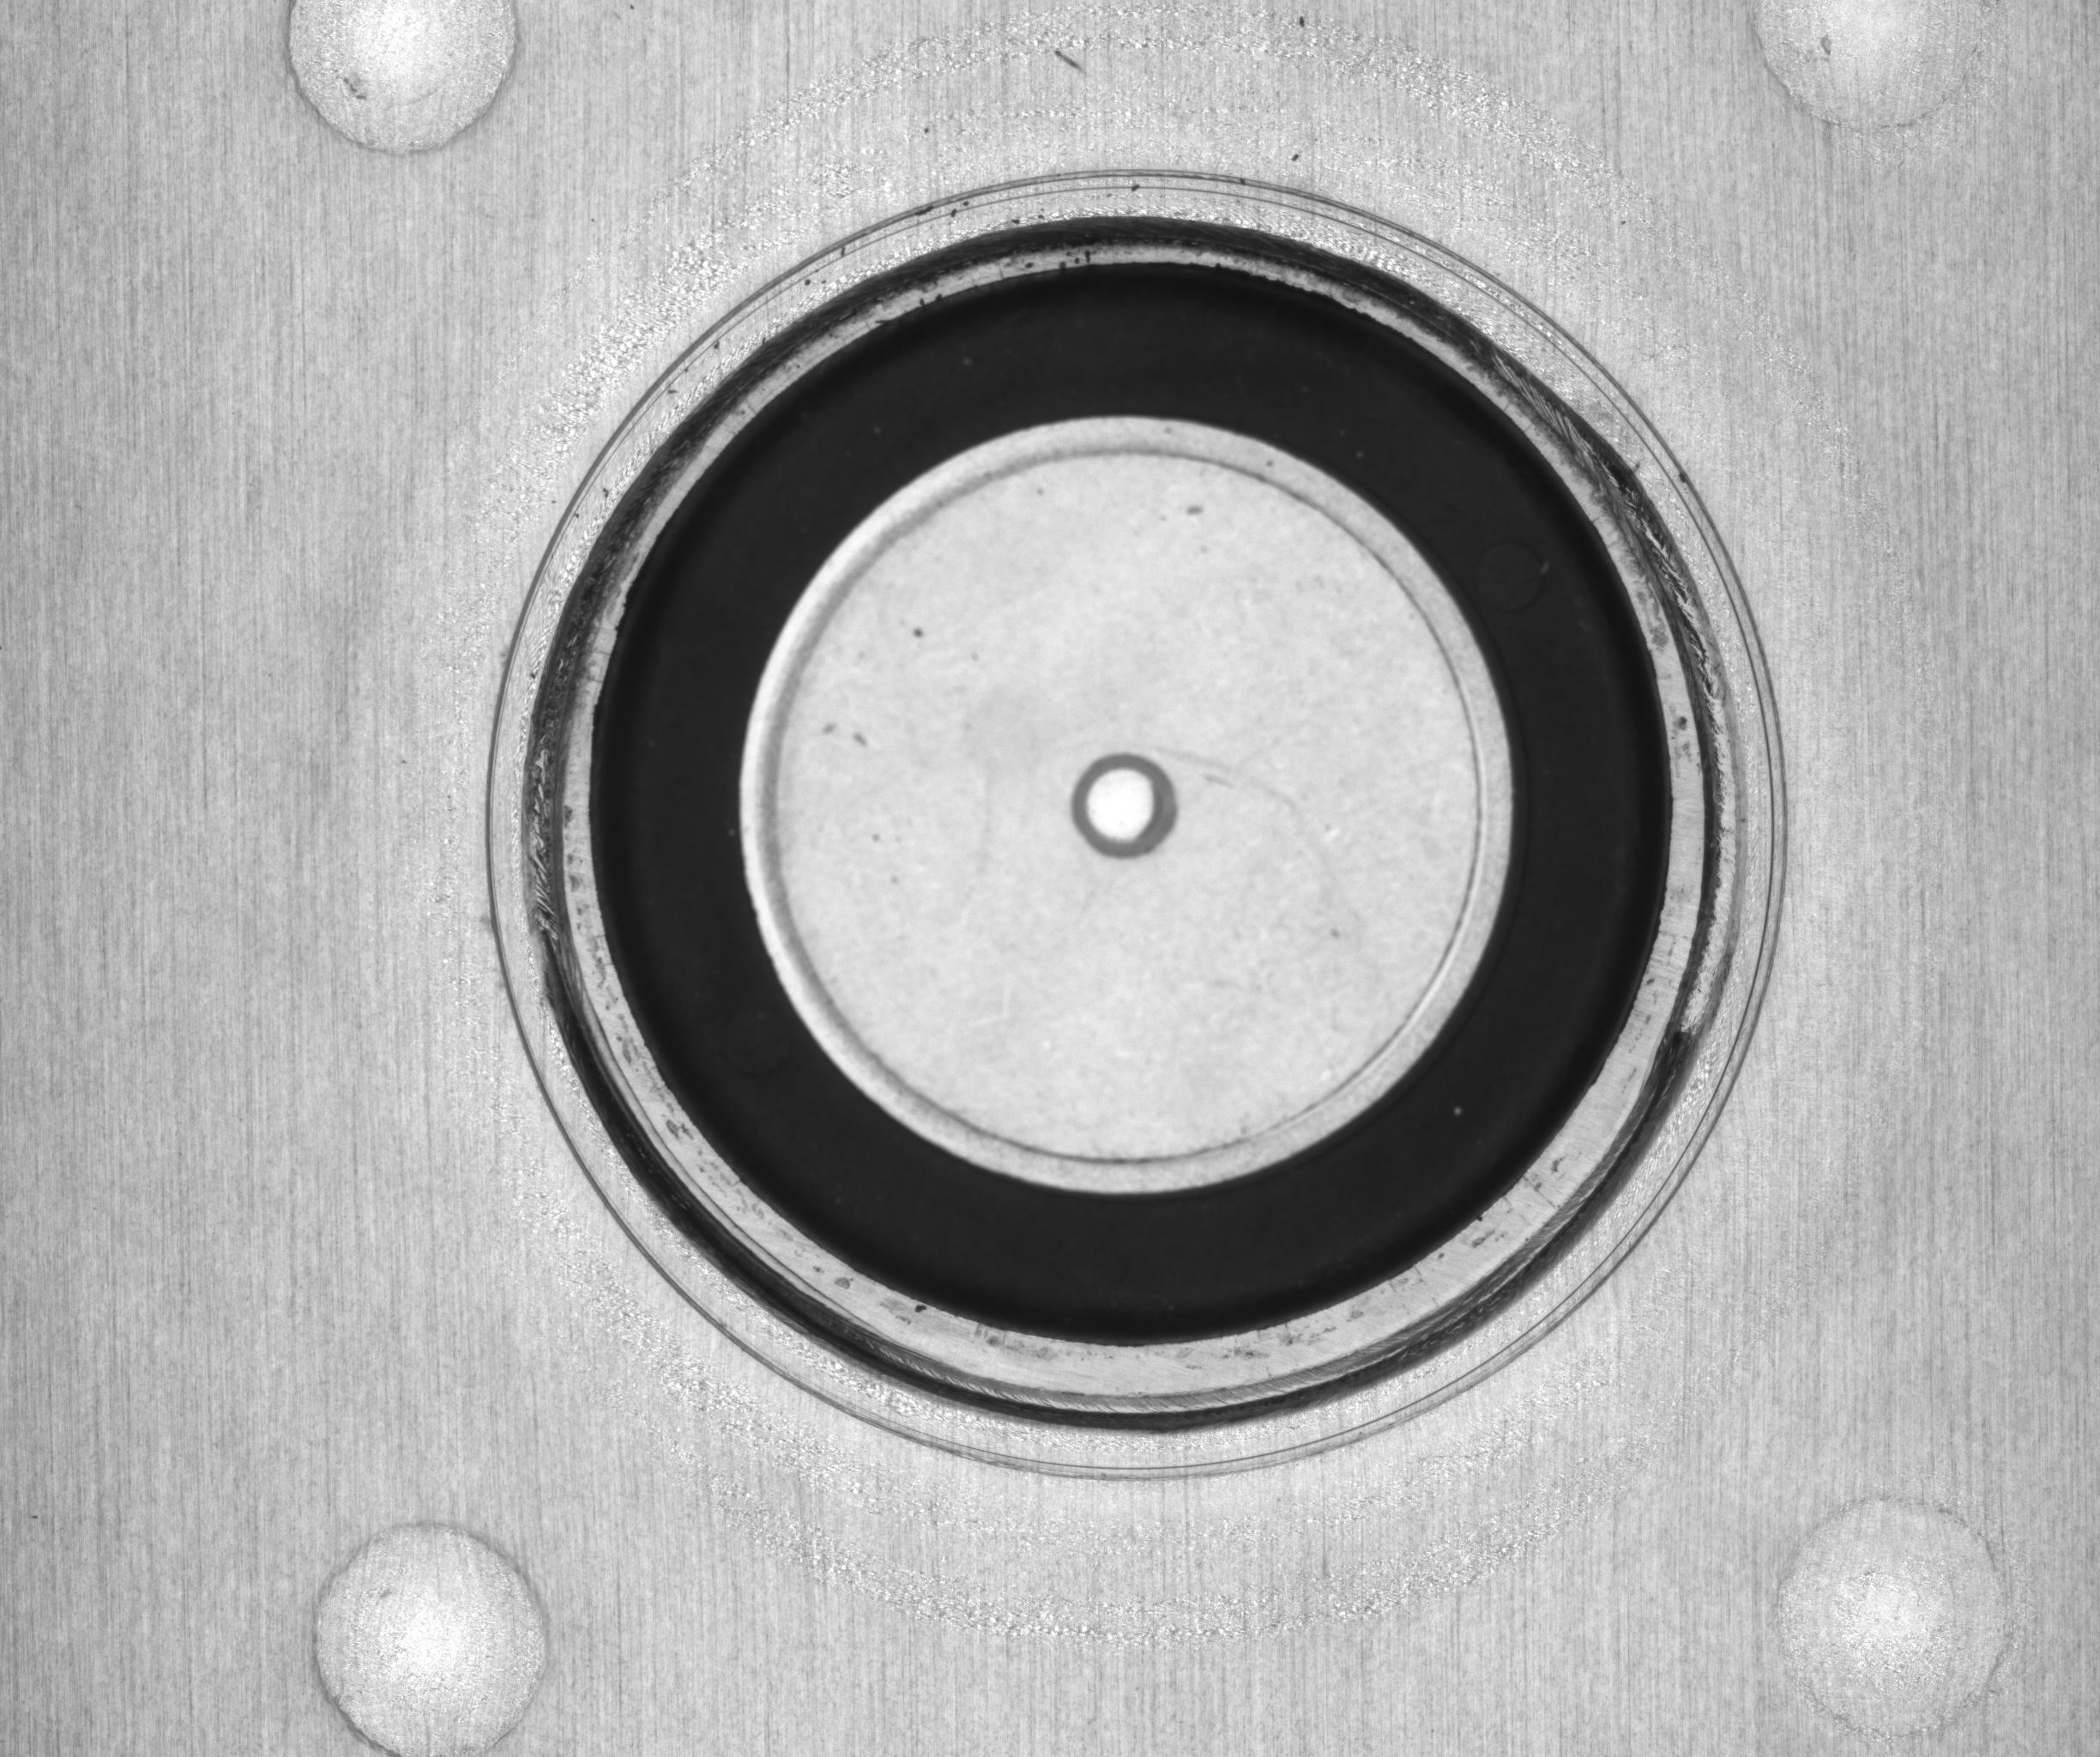shifting: (474, 159, 1810, 1504)
